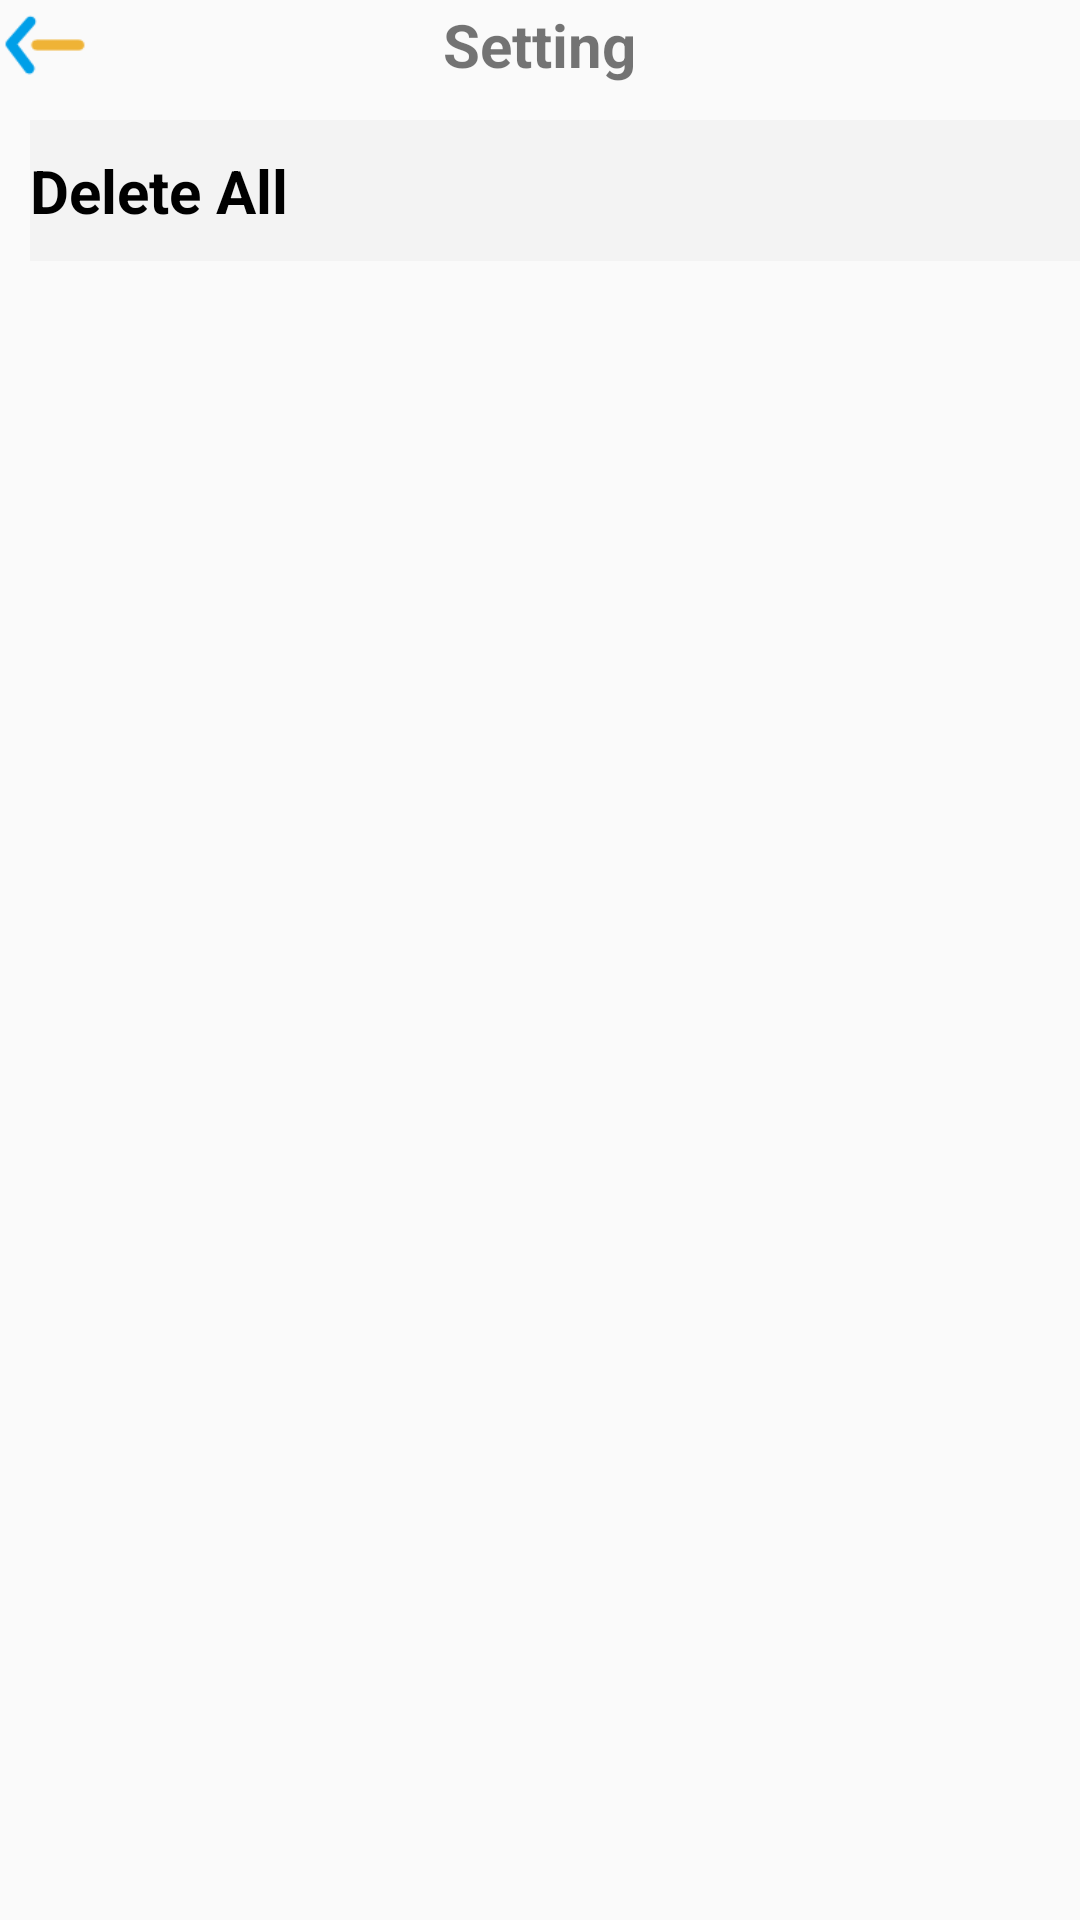

Screen size 1080 x 1920. Icon name, then its box in pixels as (x1, y1, x2, y2):
backspace: (5, 16, 85, 75)
